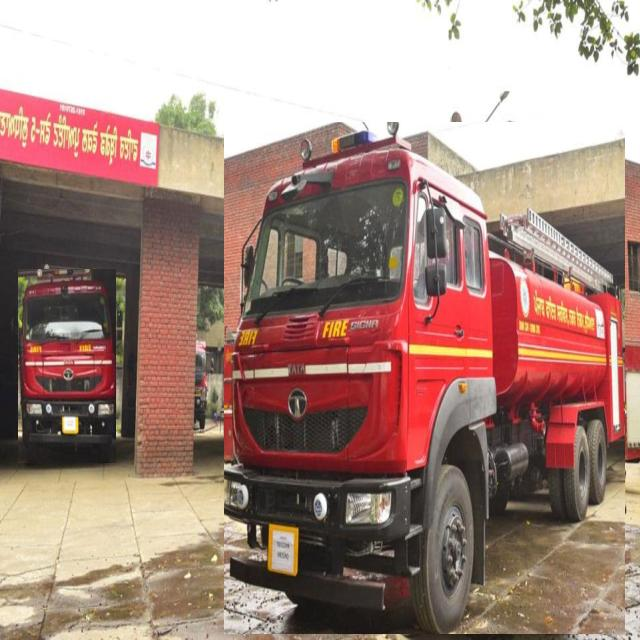emergency: (224, 123, 625, 634), (18, 269, 116, 463)
